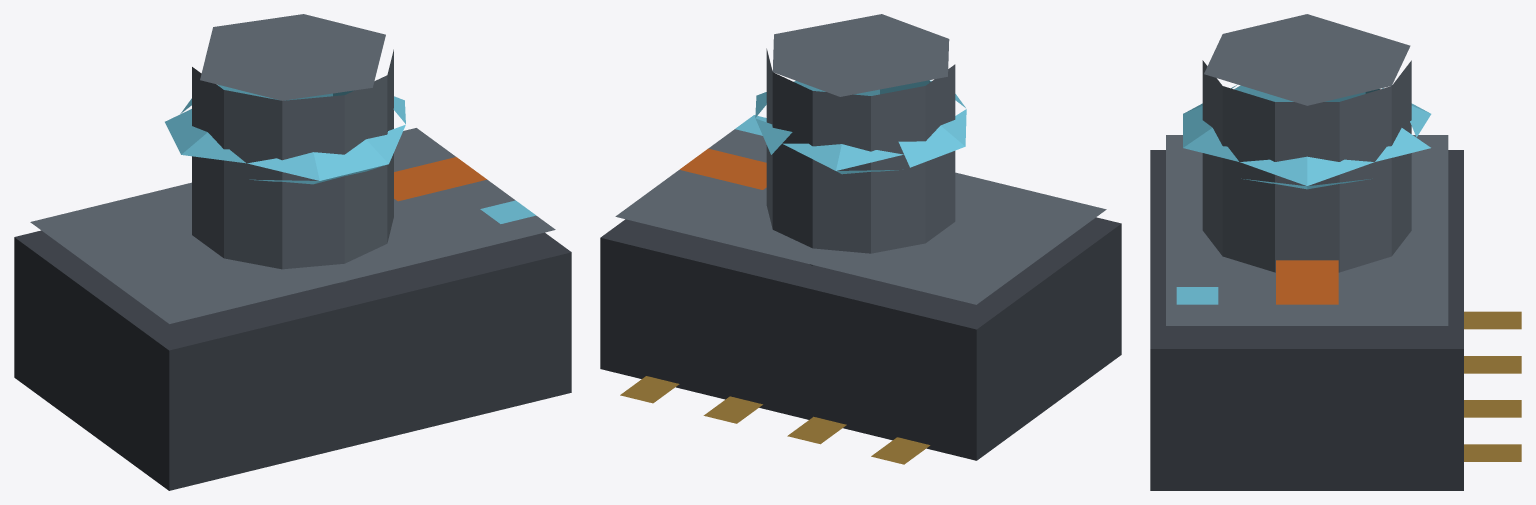
Rendered from droid-resourceful-drive.lod.glb.
The picture shows the model from 3 angles, left to right: view 1: azimuth 30°, elevation 25°; view 2: azimuth 150°, elevation 25°; view 3: azimuth 270°, elevation 25°; orthographic projection. The views are drawn at different scales.
Visible parts, largest first — view 1: m; view 2: m; view 3: m.
Part boxes in pixels (<box>): m: <box>14,14,571,490</box>; m: <box>600,14,1121,464</box>; m: <box>1150,14,1521,490</box>.
Size of the model in its own units: 0.1 by 0.0833 by 0.0789.
